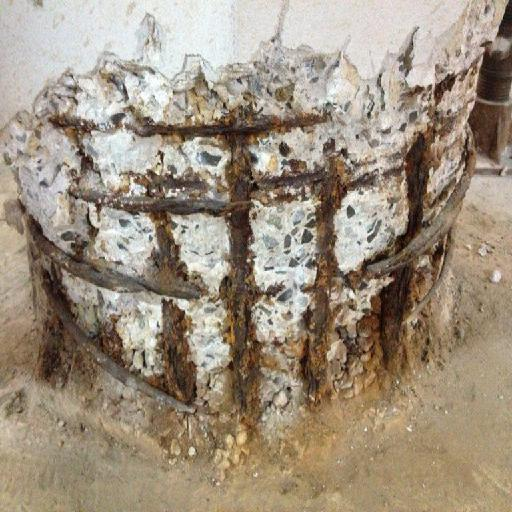exposed_rebar: (27, 114, 347, 424), (360, 134, 475, 370), (136, 169, 200, 192), (55, 117, 95, 132), (81, 155, 93, 172)
spalling: (5, 3, 499, 414)
